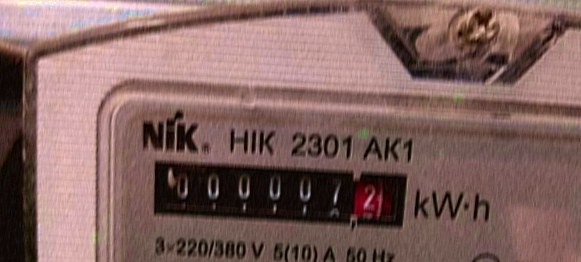0: (233, 172, 253, 200), (203, 172, 222, 201), (172, 172, 191, 200), (295, 174, 313, 203), (265, 173, 282, 201)
2: (359, 183, 377, 213)
7: (325, 177, 343, 207)
screen: (141, 148, 419, 240)
